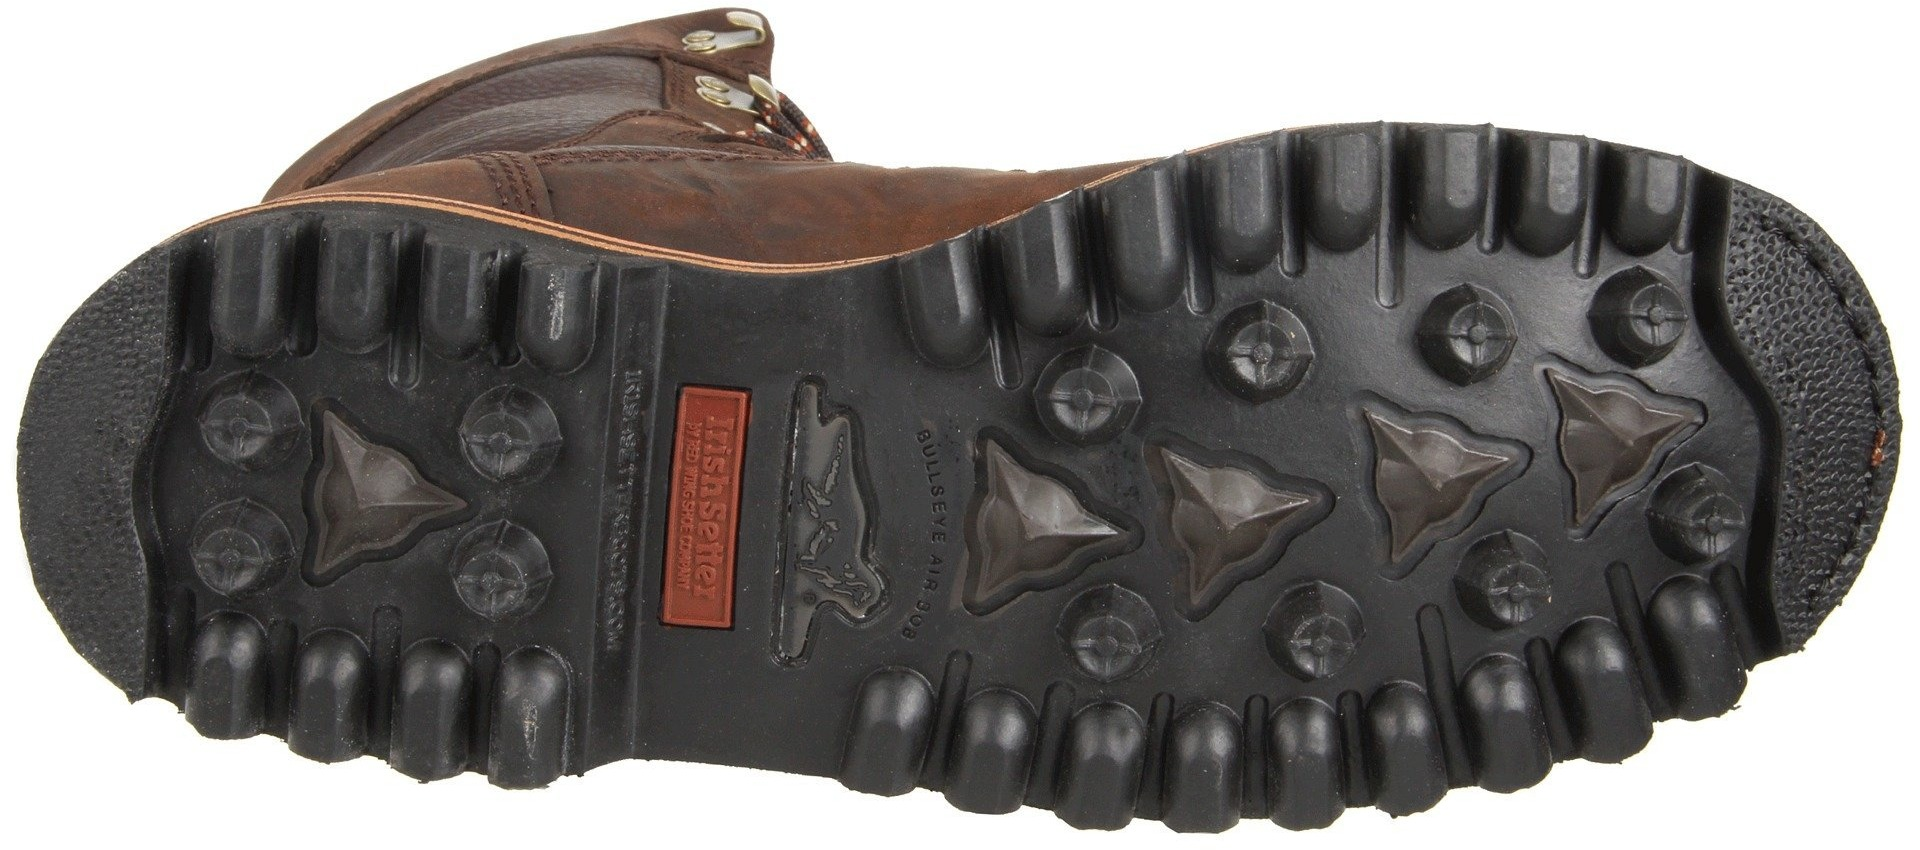circle: (1408, 250, 1544, 396), (1198, 277, 1331, 423), (1019, 338, 1164, 469)
exclude: (582, 262, 804, 773)
other: (29, 414, 122, 525)
quad: (380, 611, 584, 780), (207, 217, 410, 367), (415, 224, 600, 385), (184, 601, 371, 758)
star: (290, 393, 487, 592)
text: (900, 405, 977, 494)
